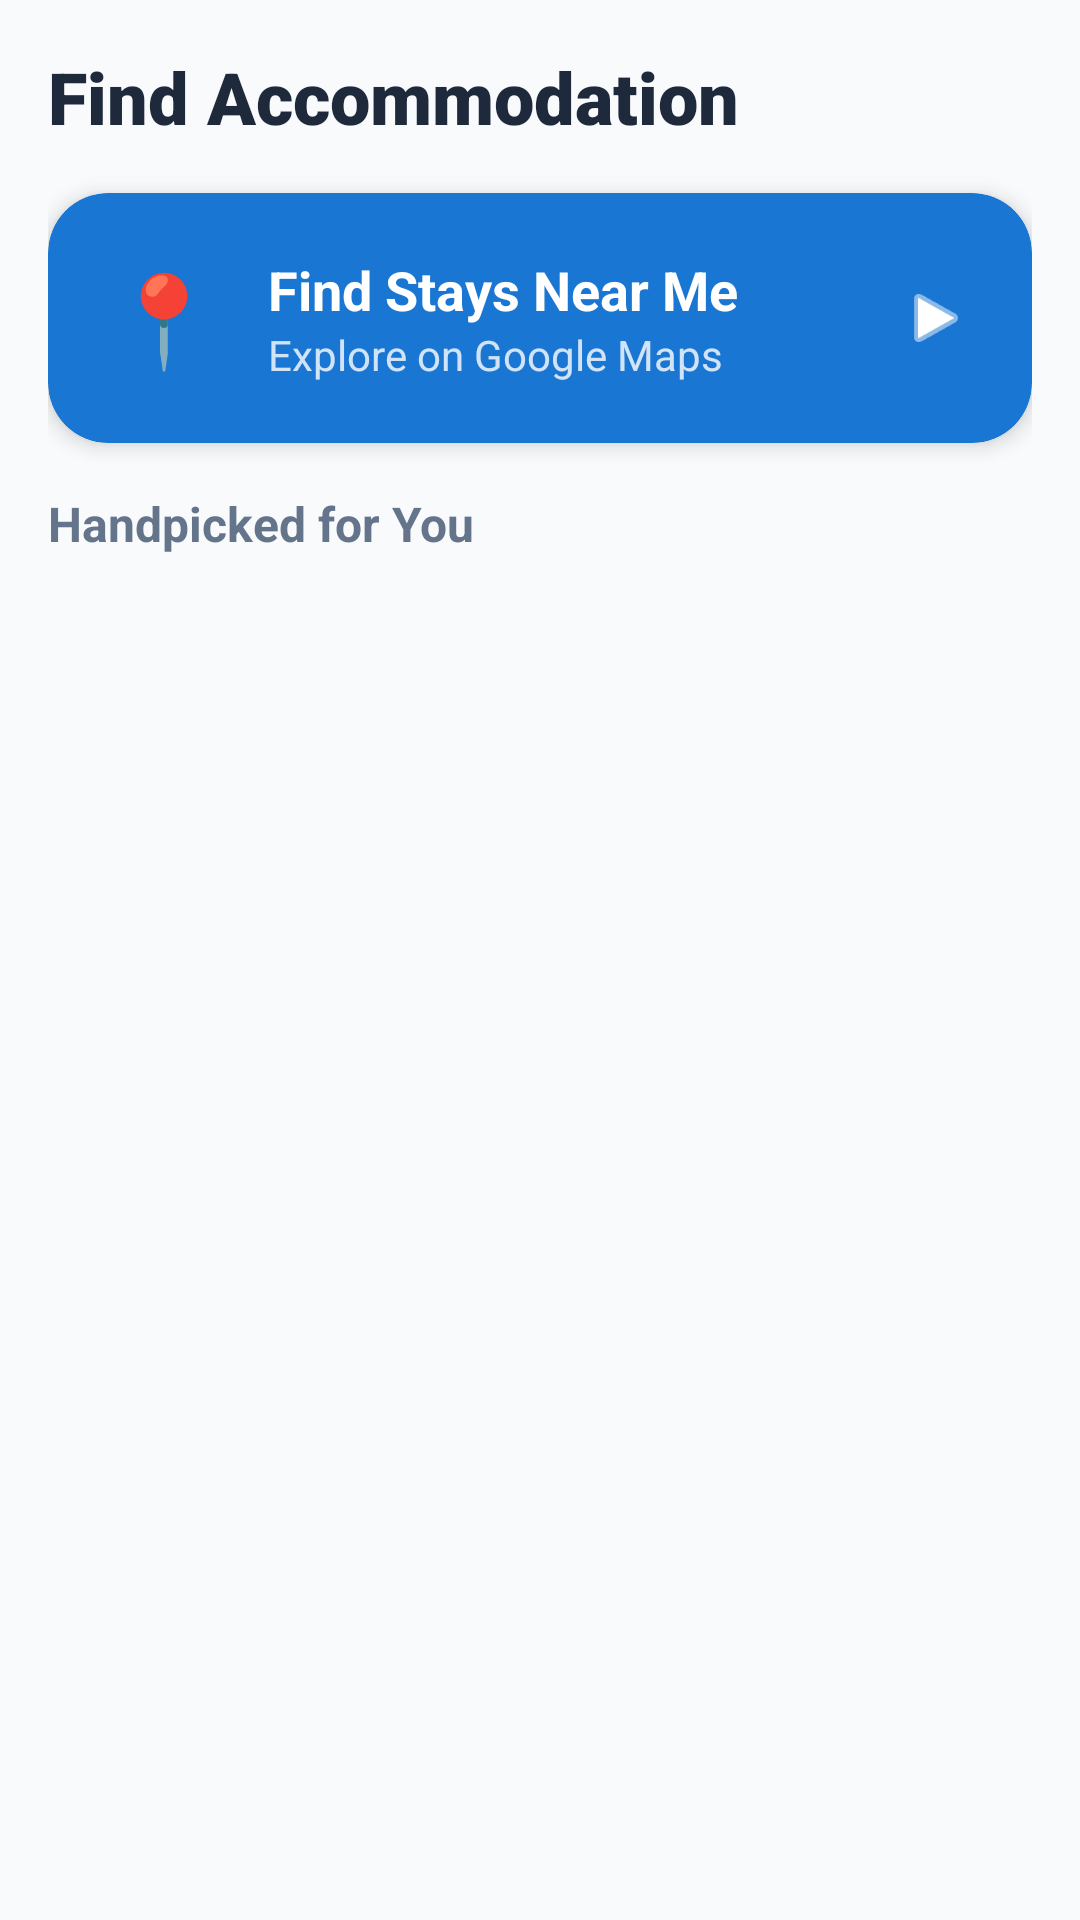

Named icons in this screenshot (1080px x 1920px) and their centers, [x,y]:
play: [936,318]
